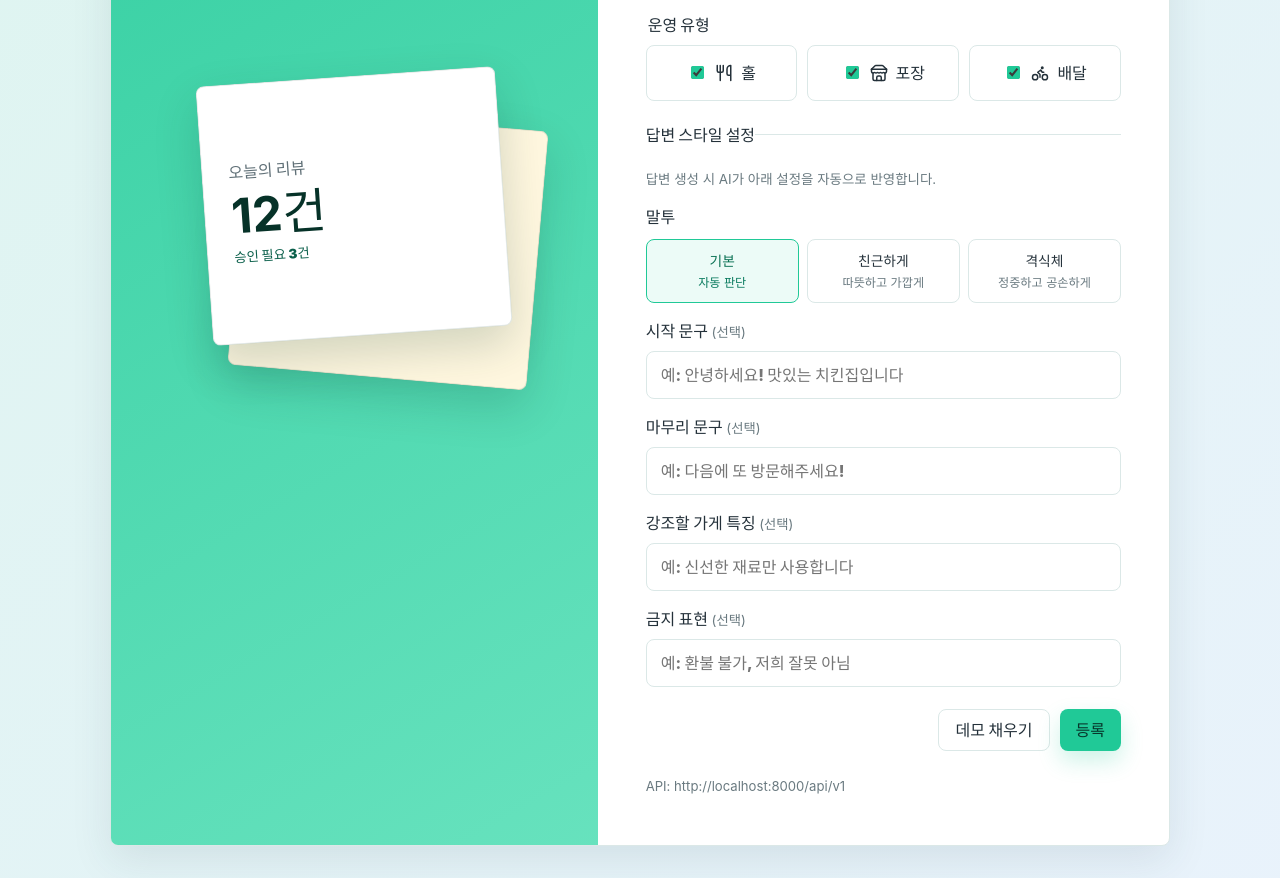
Test: Review helper SPA › setup validates required store name
(page scrolled)
Click the button "등록" at (1090, 730), box [1060,709,1121,751]
(page scrolled)
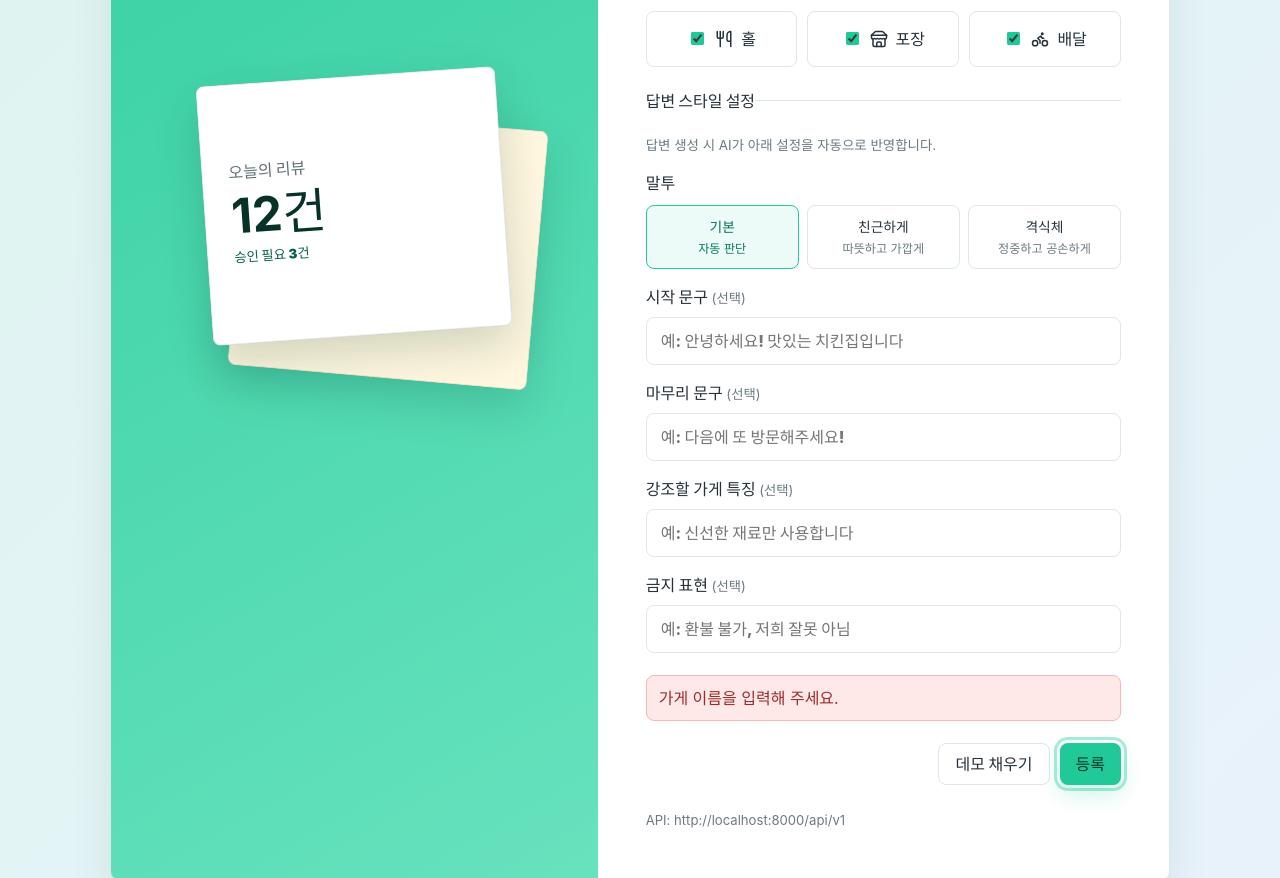
Check: the message reads "가게 이름을 입력해 주세요.", box [659,688,839,708]
